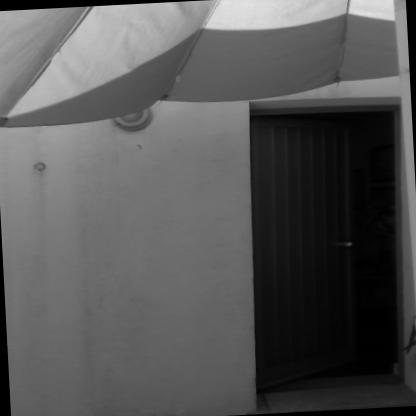semi: (237, 74, 416, 403)
